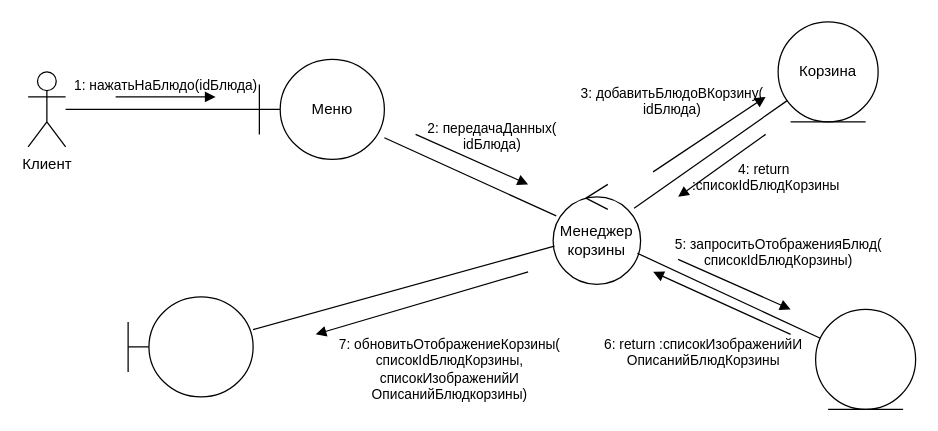
This 938x431 diagram has some shape labels left out. Each missing label, with the box of its shape:
База блюд: (814, 308, 916, 409)
Интерфейс корзины: (127, 296, 253, 397)
